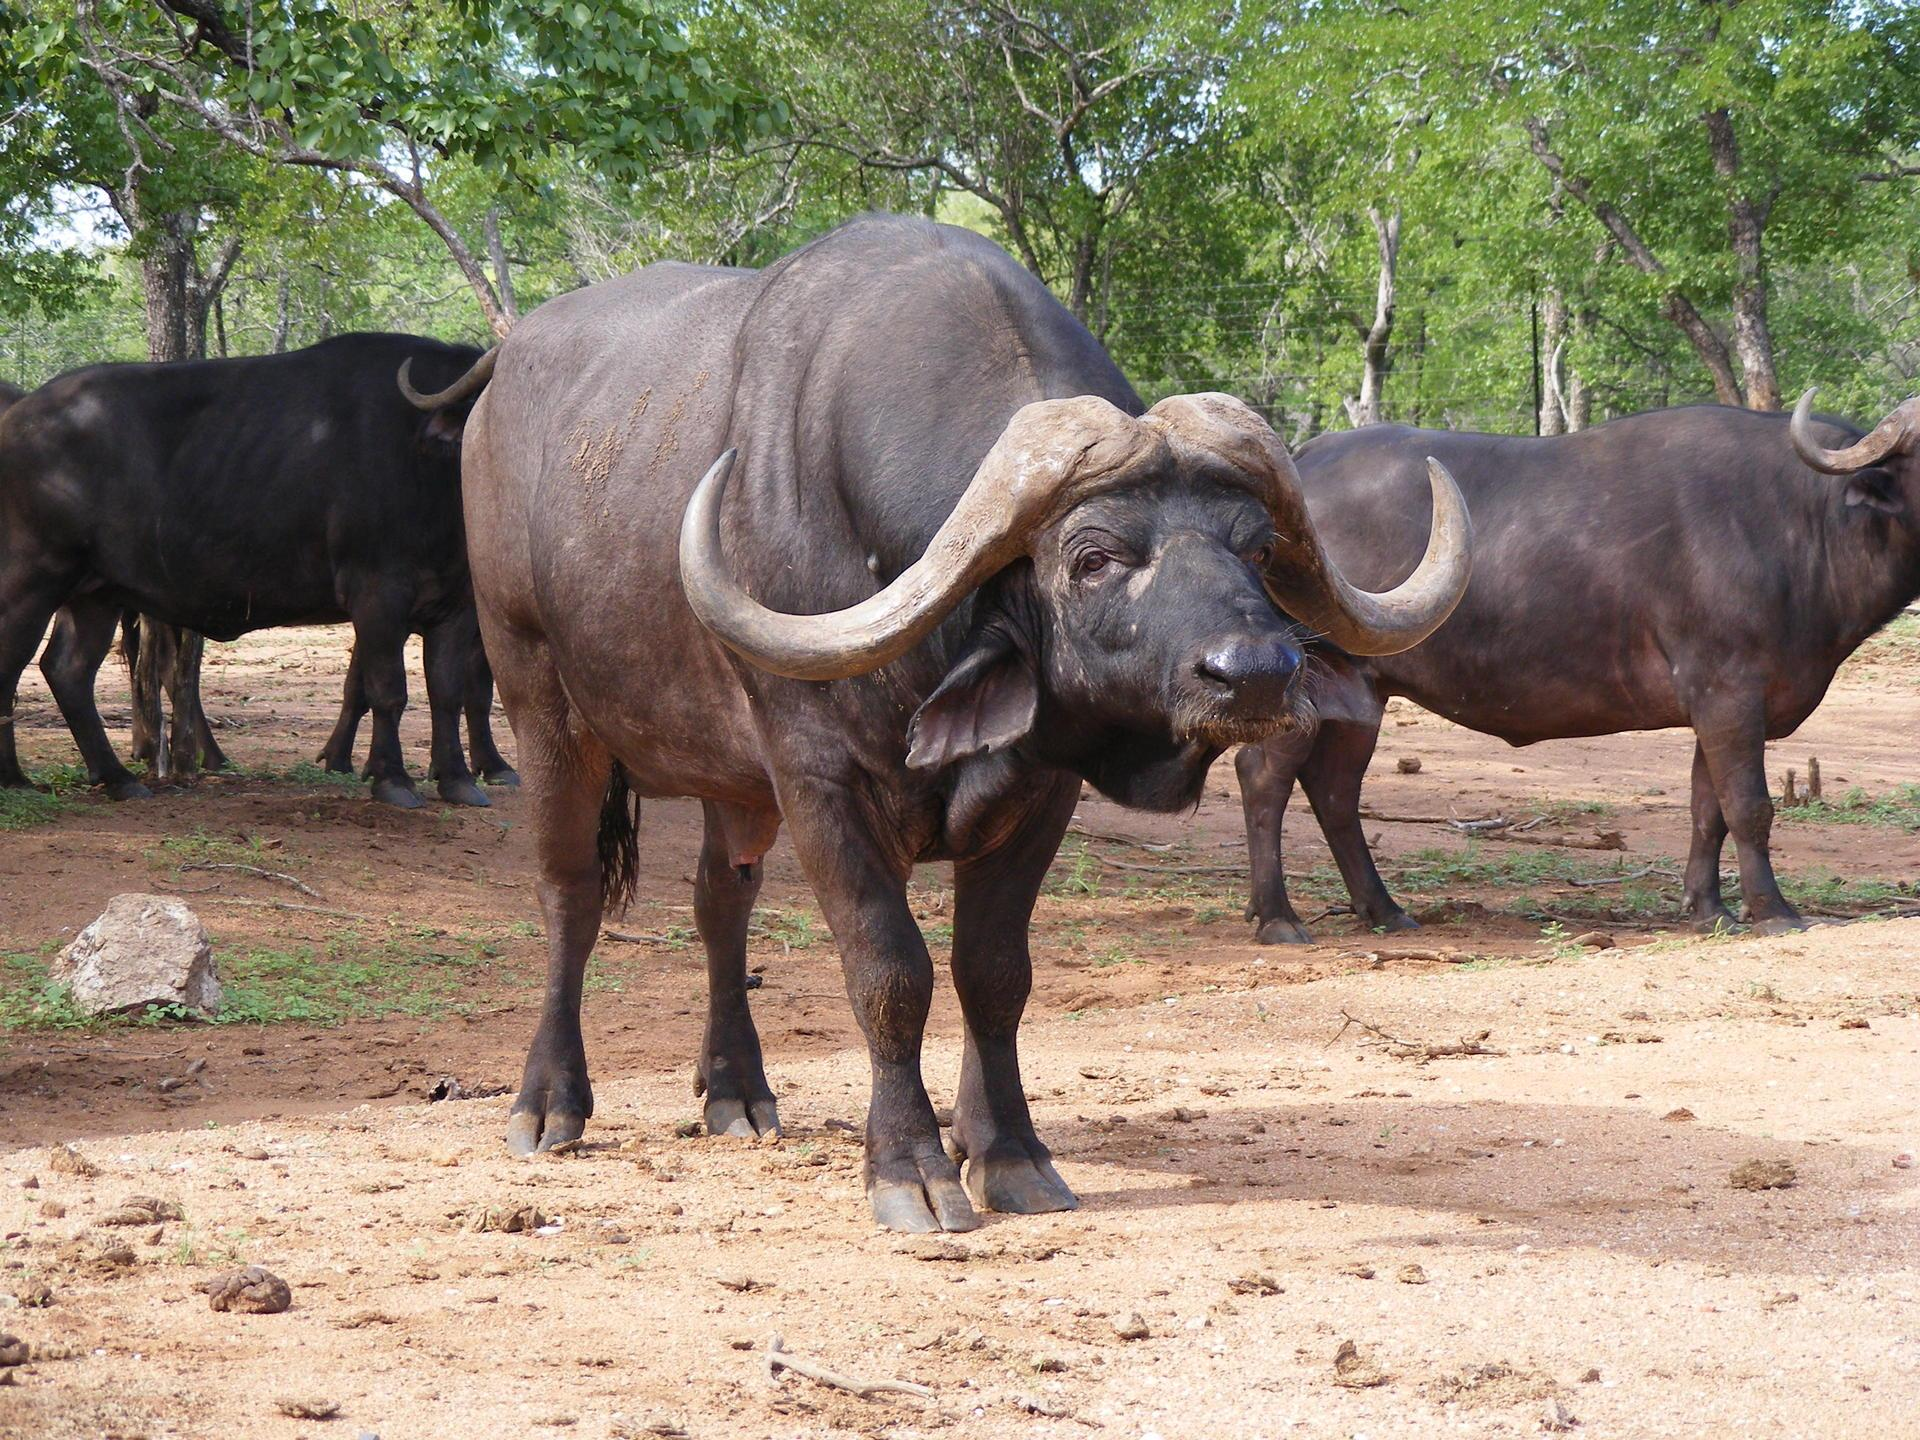Buffalo: (0, 24, 1920, 1198)
